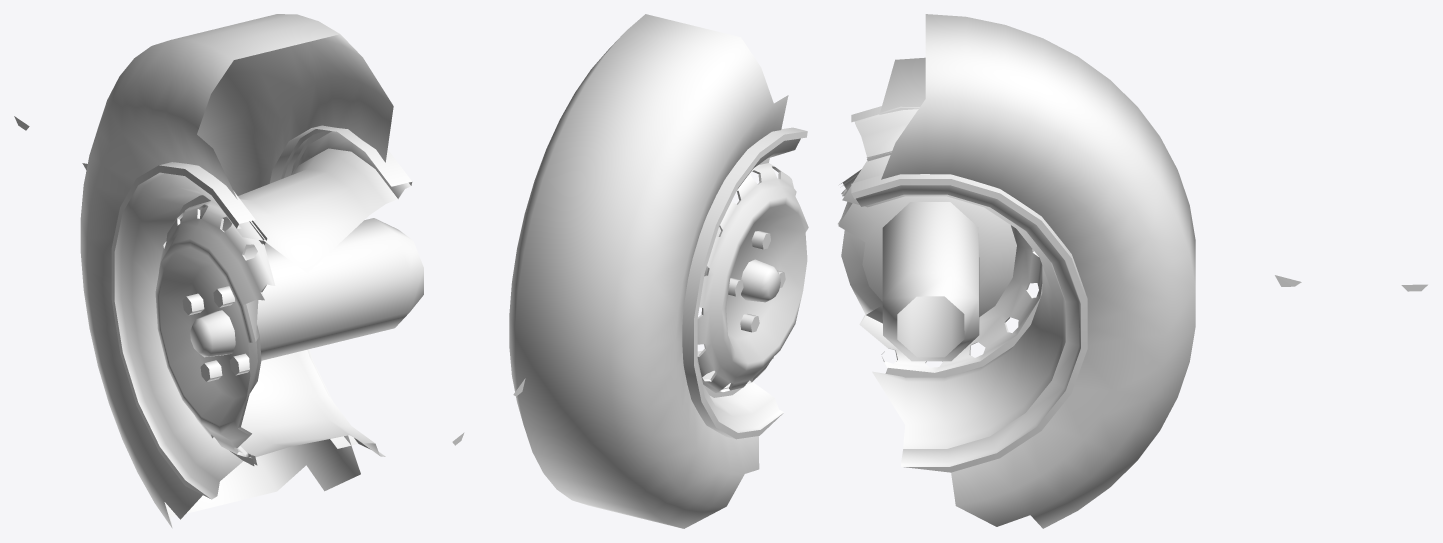
3 renders of one model, left to right at view 1: azimuth 30°, elevation 25°; view 2: azimuth 150°, elevation 25°; view 3: azimuth 270°, elevation 25°, orthographic. The views are drawn at different scales.
Size of the model in its own units: 0.2603 by 0.5914 by 0.6787.
1 material, 1 textured.
